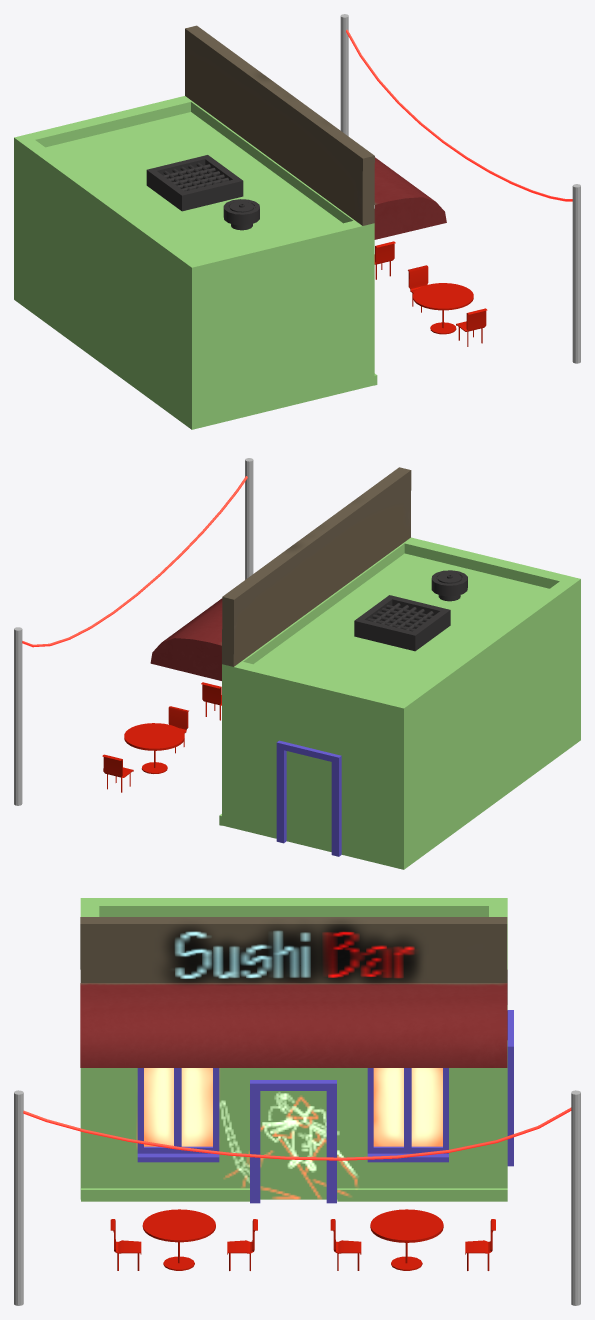
Rendered from кафешка  голая.fbx.
The picture shows the model from 3 angles, top to bottom: view 1: azimuth 30°, elevation 25°; view 2: azimuth 150°, elevation 25°; view 3: azimuth 270°, elevation 25°; orthographic projection. The views are drawn at different scales.
Parts seen in each view (by area): view 1: кафешка, гирлянда; view 2: кафешка, гирлянда; view 3: кафешка, гирлянда.
Boxes of the visible parts, <box> form: кафешка: <box>14,14,580,429</box>; гирлянда: <box>346,29,572,201</box>; кафешка: <box>14,458,580,869</box>; гирлянда: <box>22,476,247,647</box>; кафешка: <box>14,898,580,1305</box>; гирлянда: <box>23,1107,571,1160</box>.
Bounding box in the file's own units: 823 × 500 × 929.
